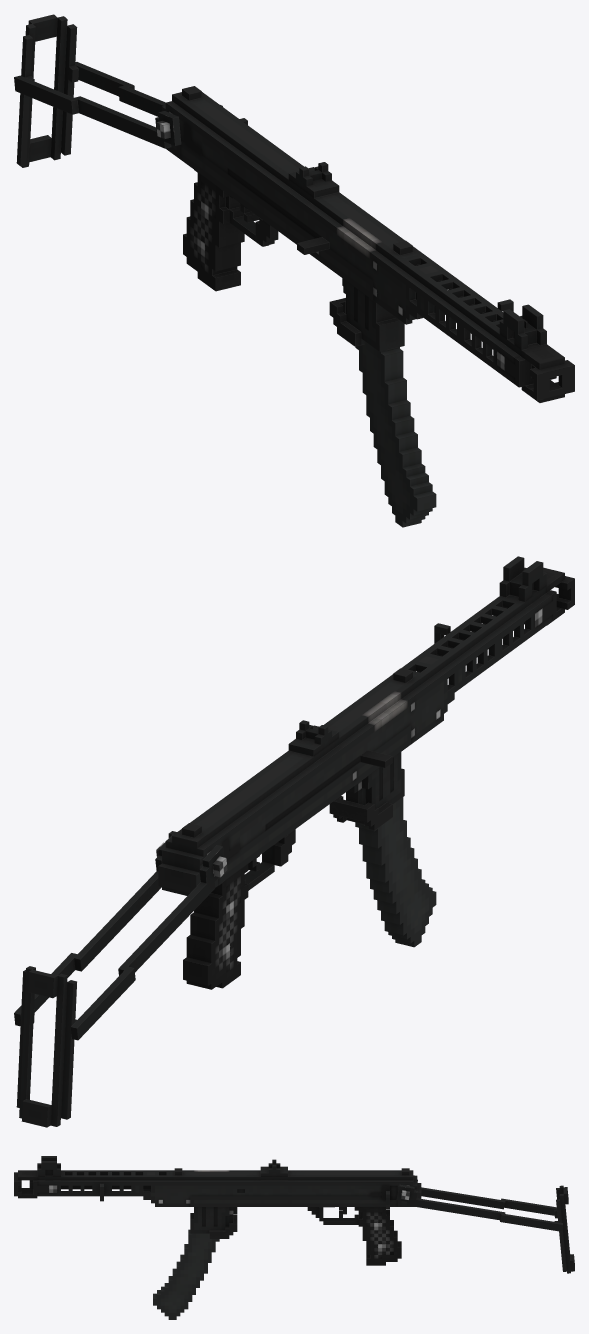
Rendered from RD_PPS43.glb.
3 views of the same model, one above another, from view 1: azimuth 30°, elevation 25°; view 2: azimuth 150°, elevation 25°; view 3: azimuth 270°, elevation 25° (orthographic). The views are drawn at different scales.
Parts seen in each view (by area): view 1: PPS43, PPS43_CLIP, PPS43_BUTT_STOCK_P2, PPS43_BUTT_STOCK_P1; view 2: PPS43, PPS43_BUTT_STOCK_P1, PPS43_CLIP, PPS43_BUTT_STOCK_P2; view 3: PPS43, PPS43_BUTT_STOCK_P1, PPS43_CLIP, PPS43_BUTT_STOCK_P2.
Boxes of the visible parts, <box> form: PPS43: <box>162,86,574,402</box>; PPS43_CLIP: <box>355,341,436,527</box>; PPS43_BUTT_STOCK_P2: <box>16,14,78,167</box>; PPS43_BUTT_STOCK_P1: <box>14,62,222,148</box>; PPS43: <box>158,556,574,989</box>; PPS43_BUTT_STOCK_P1: <box>14,834,227,1040</box>; PPS43_CLIP: <box>355,797,436,947</box>; PPS43_BUTT_STOCK_P2: <box>16,966,76,1127</box>; PPS43: <box>14,1156,421,1265</box>; PPS43_BUTT_STOCK_P1: <box>396,1175,562,1231</box>; PPS43_CLIP: <box>153,1229,219,1319</box>; PPS43_BUTT_STOCK_P2: <box>554,1185,574,1273</box>.
Bounding box in the file's own units: 0.128 × 0.438 × 1.41.
Materials: 1 (1 with a texture image).
